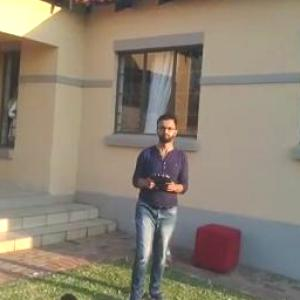follow: (122, 107, 192, 299)
